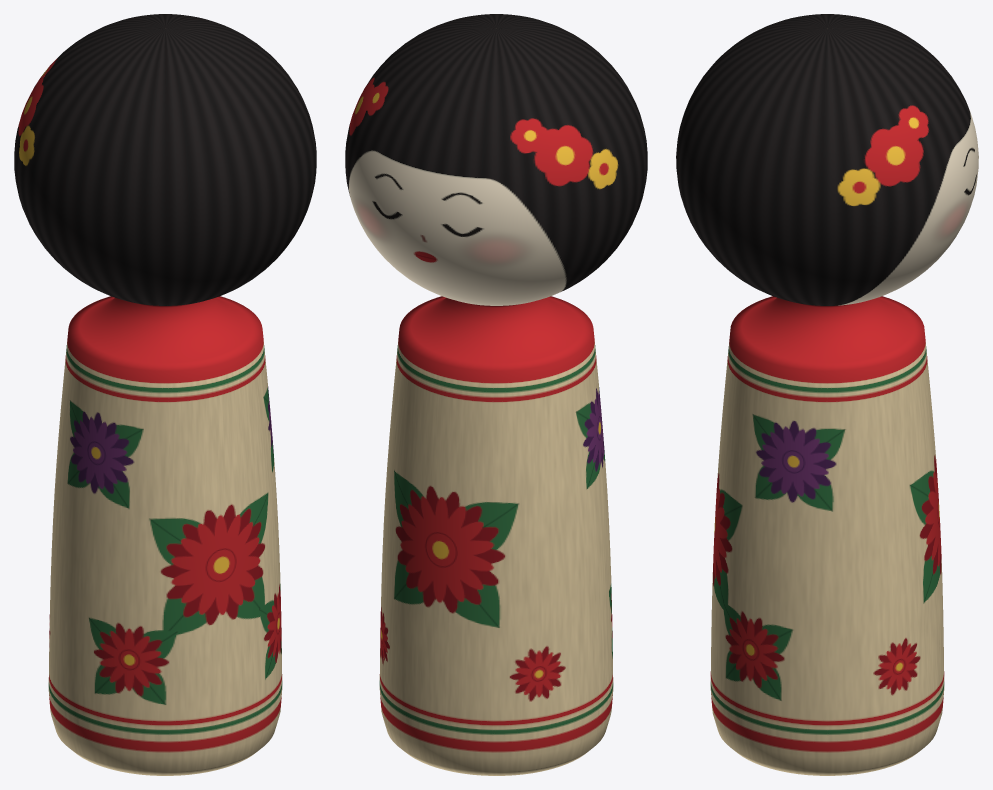
File: Kokeshi.obj
3 views of the same model, side by side, from view 1: azimuth 30°, elevation 25°; view 2: azimuth 150°, elevation 25°; view 3: azimuth 270°, elevation 25° (orthographic).
Visible parts, largest first — view 1: Kokeshi; view 2: Kokeshi; view 3: Kokeshi.
Boxes of the visible parts, x1,y1,x2,y2 form: Kokeshi: [14, 14, 316, 775]; Kokeshi: [345, 14, 647, 775]; Kokeshi: [676, 14, 978, 775].
Bounding box in the file's own units: 0.092 × 0.236 × 0.092.
Materials: 1 (1 with a texture image).
